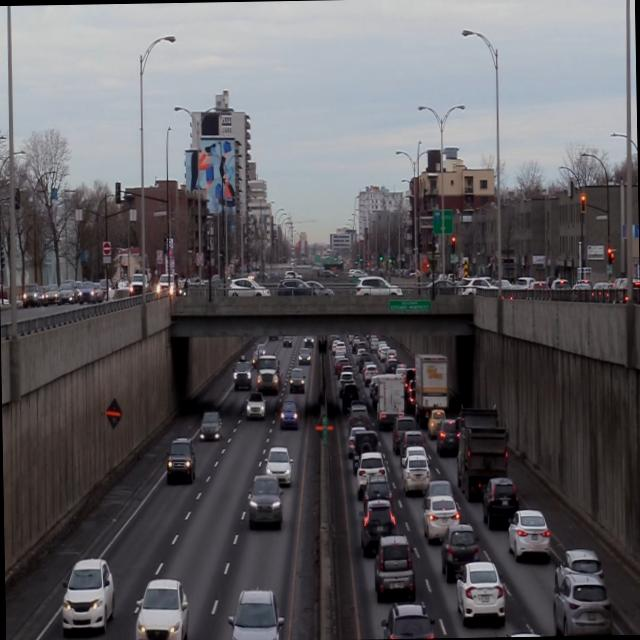Vehicle: (456, 412, 512, 500), (62, 557, 116, 634), (552, 576, 614, 636), (133, 579, 189, 640), (458, 564, 510, 624), (230, 585, 284, 640), (371, 539, 416, 595), (380, 602, 441, 639), (508, 510, 552, 560), (440, 523, 480, 575), (555, 544, 606, 584), (358, 498, 397, 549), (250, 472, 284, 528), (422, 498, 460, 540), (482, 480, 518, 524), (167, 438, 197, 483), (265, 443, 293, 486), (403, 455, 431, 496), (256, 348, 282, 392), (362, 476, 394, 509), (200, 411, 222, 441), (245, 392, 267, 421), (232, 360, 253, 390), (280, 399, 300, 430), (289, 367, 305, 393)
